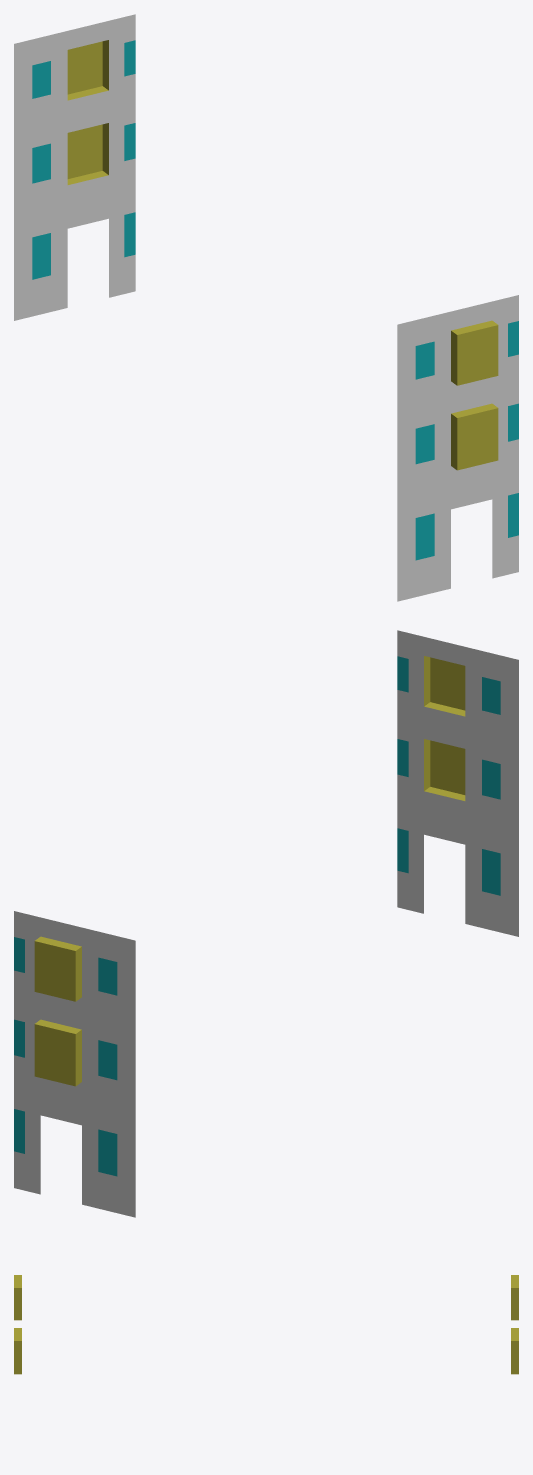
Rendered from Murs_Scene_Cotes.fbx.
3 renders of one model, top to bottom at view 1: azimuth 30°, elevation 25°; view 2: azimuth 150°, elevation 25°; view 3: azimuth 270°, elevation 25°, orthographic. The views are drawn at different scales.
Visible parts, largest first — view 1: Murs_Scène_Côtés; view 2: Murs_Scène_Côtés; view 3: Murs_Scène_Côtés.
Boxes of the visible parts, <box> form: Murs_Scène_Côtés: <box>14,14,518,601</box>; Murs_Scène_Côtés: <box>14,630,518,1217</box>; Murs_Scène_Côtés: <box>14,1275,518,1374</box>.
Size of the model in its own units: 1114 by 2427 by 6282.
